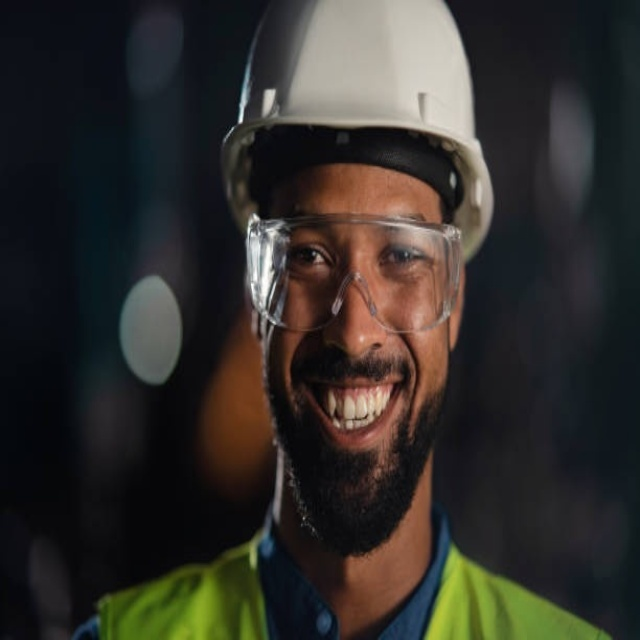Gafas: (247, 211, 464, 331)
Sin_mascara: (289, 353, 413, 522)
